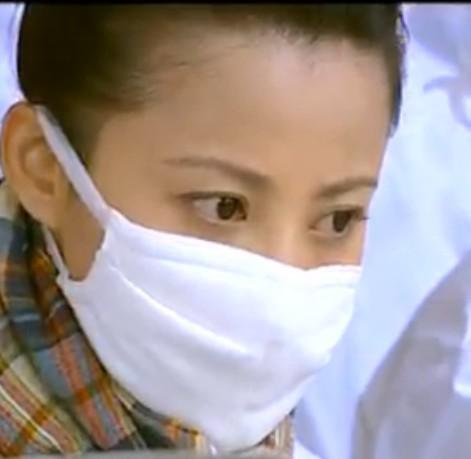OK: (56, 107, 386, 427)
